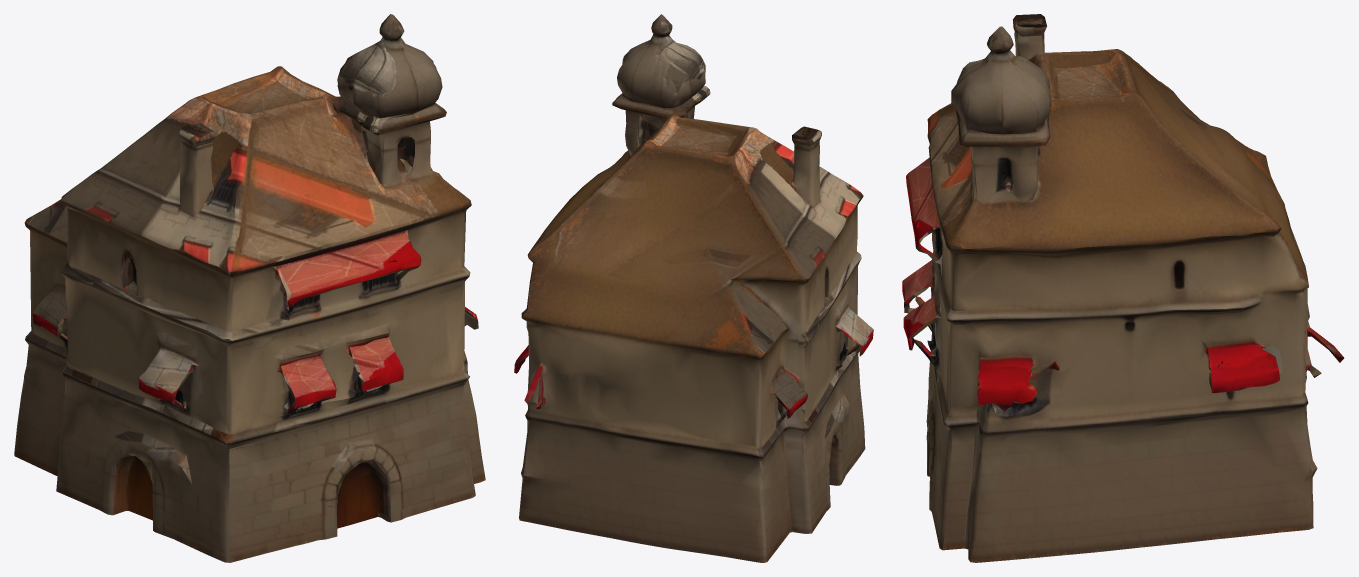
File: etiopia_gondar.glb
3 views of the same model, side by side, from view 1: azimuth 30°, elevation 25°; view 2: azimuth 150°, elevation 25°; view 3: azimuth 270°, elevation 25° (orthographic). The views are drawn at different scales.
Parts seen in each view (by area): view 1: geometry_0; view 2: geometry_0; view 3: geometry_0.
Part boxes in pixels (x1=…): geometry_0: x1=14, y1=14, x2=485, y2=562; geometry_0: x1=514, y1=14, x2=873, y2=562; geometry_0: x1=902, y1=14, x2=1344, y2=562.
Bounding box in the file's own units: 3.1 × 4.2 × 3.4.
1 material, 1 textured.
